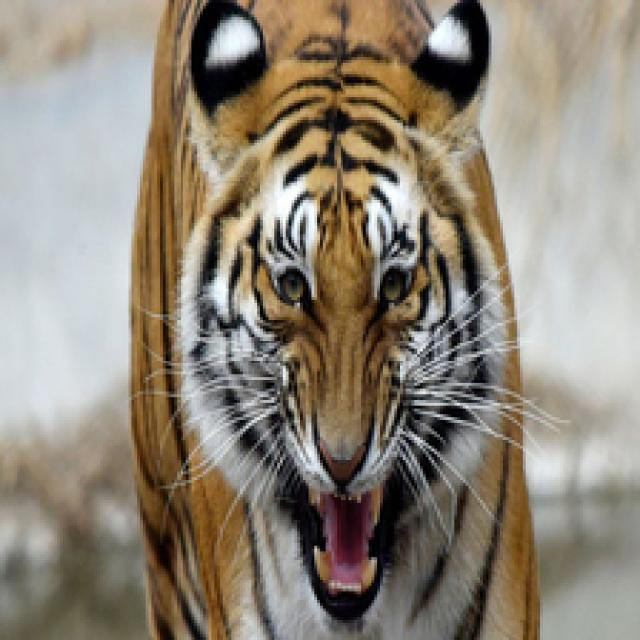tiger: (121, 0, 537, 640)
